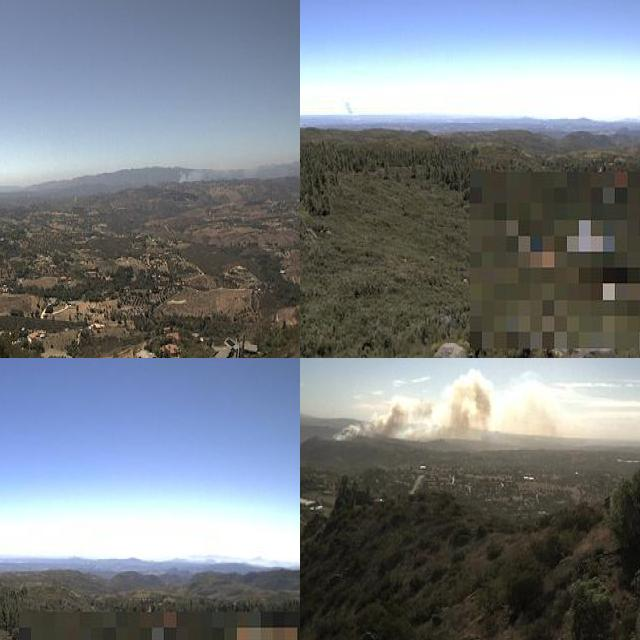smoke: (331, 362, 570, 446), (175, 150, 275, 185), (341, 95, 357, 119)
